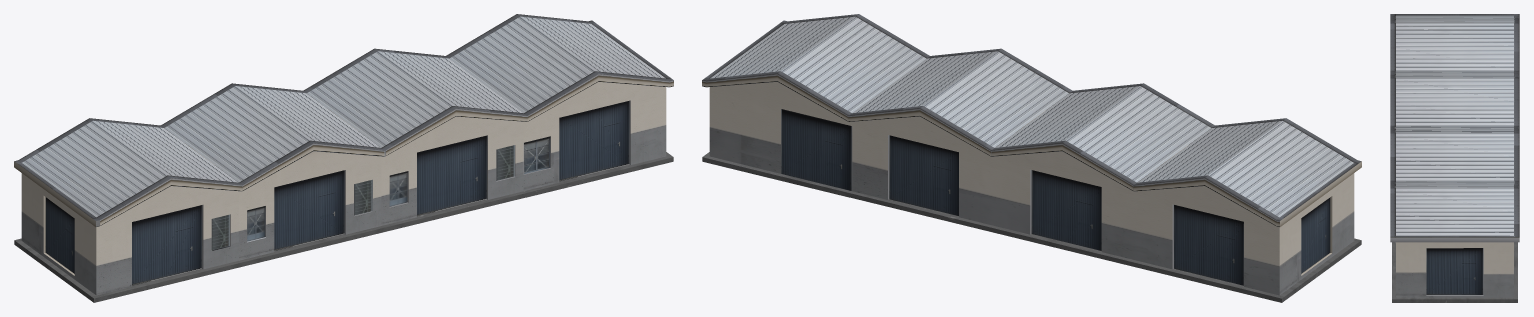
File: warehouse.glb
3 renders of one model, left to right at view 1: azimuth 30°, elevation 25°; view 2: azimuth 150°, elevation 25°; view 3: azimuth 270°, elevation 25°, orthographic. The views are drawn at different scales.
Visible parts, largest first — view 1: wherhouse; view 2: wherhouse; view 3: wherhouse.
Part boxes in pixels (bbox=[...]): wherhouse: bbox=[14, 14, 673, 302]; wherhouse: bbox=[702, 14, 1361, 302]; wherhouse: bbox=[1390, 14, 1519, 302].
Size of the model in its own units: 265 by 46.88 by 64.72.
Materials: 1 (1 with a texture image).
